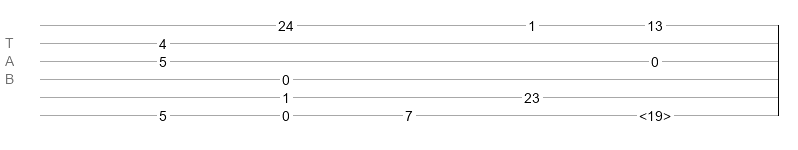0: (282, 72, 290, 82), (282, 108, 290, 118), (651, 54, 659, 64)
1: (282, 90, 290, 100), (528, 18, 536, 28)
13: (647, 18, 663, 28)
23: (524, 90, 540, 100)
24: (278, 18, 294, 28)
4: (159, 36, 167, 46)
5: (159, 54, 167, 64), (159, 108, 167, 118)
7: (405, 108, 413, 118)
harmonic: (639, 108, 671, 118)
